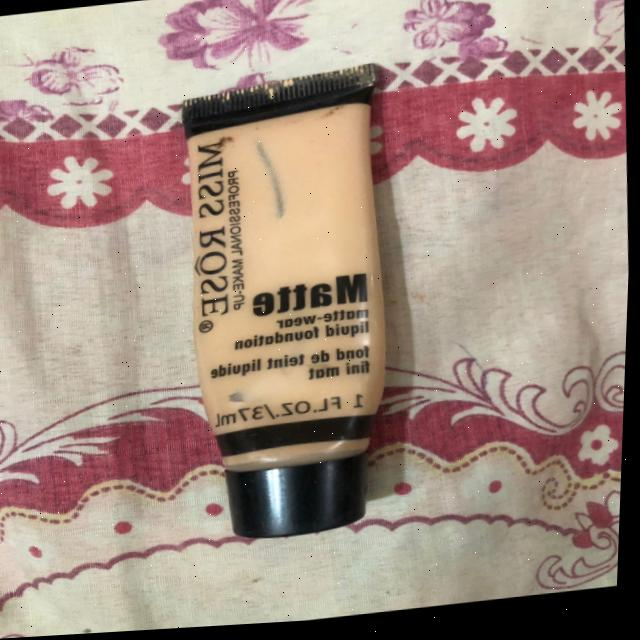foundation: (144, 40, 440, 575)
